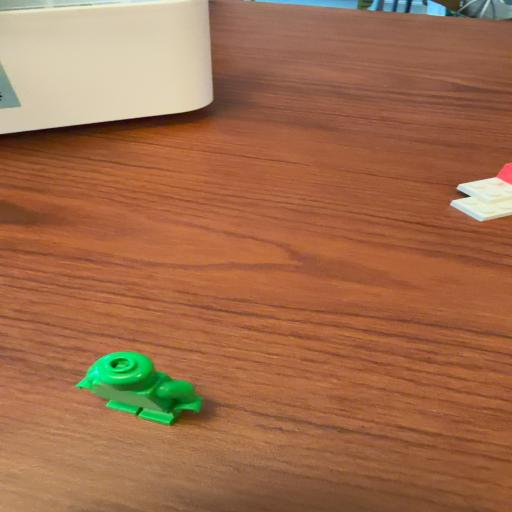UnoQ-minifig-detector: (75, 351, 203, 425)
